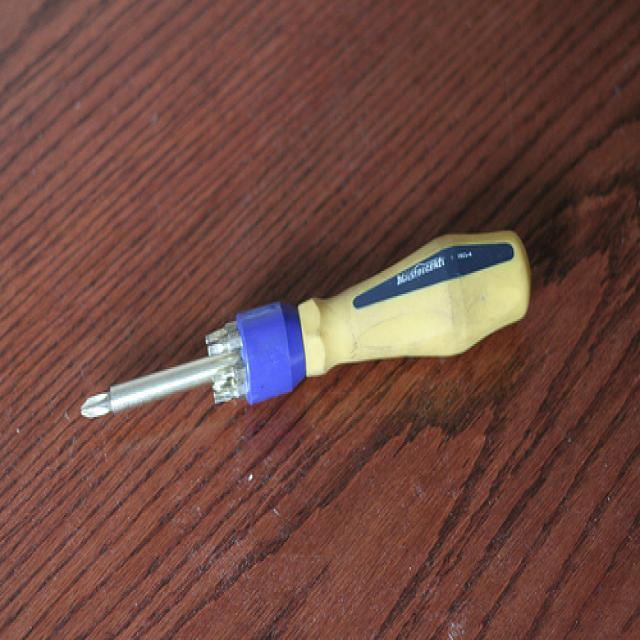screwdriver: (70, 212, 534, 436)
